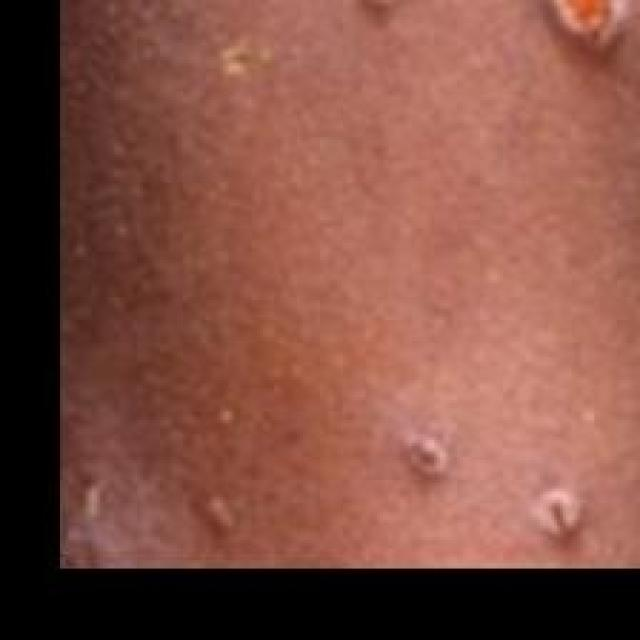monkeypox: (97, 0, 640, 503)
